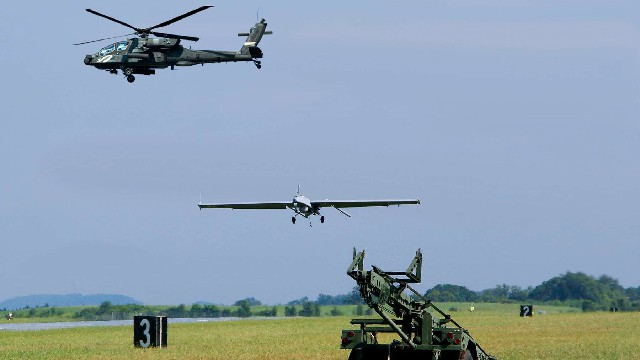maybay_khongnguoilai: (187, 180, 426, 224)
